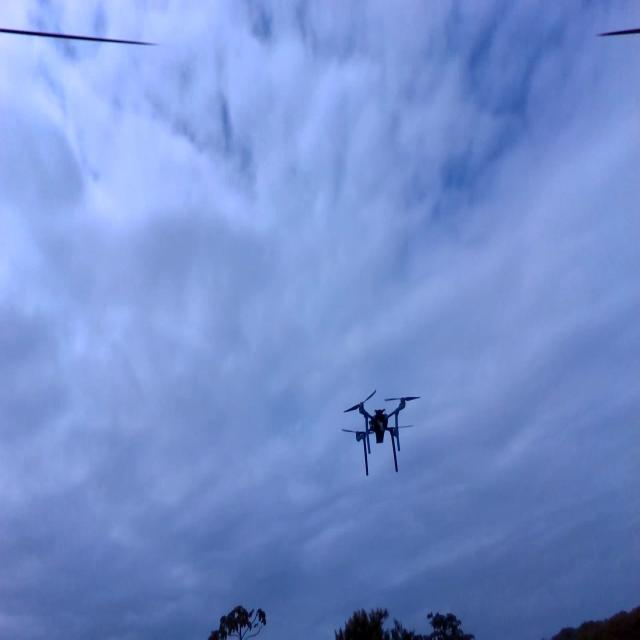-uav-: (333, 369, 422, 495)
